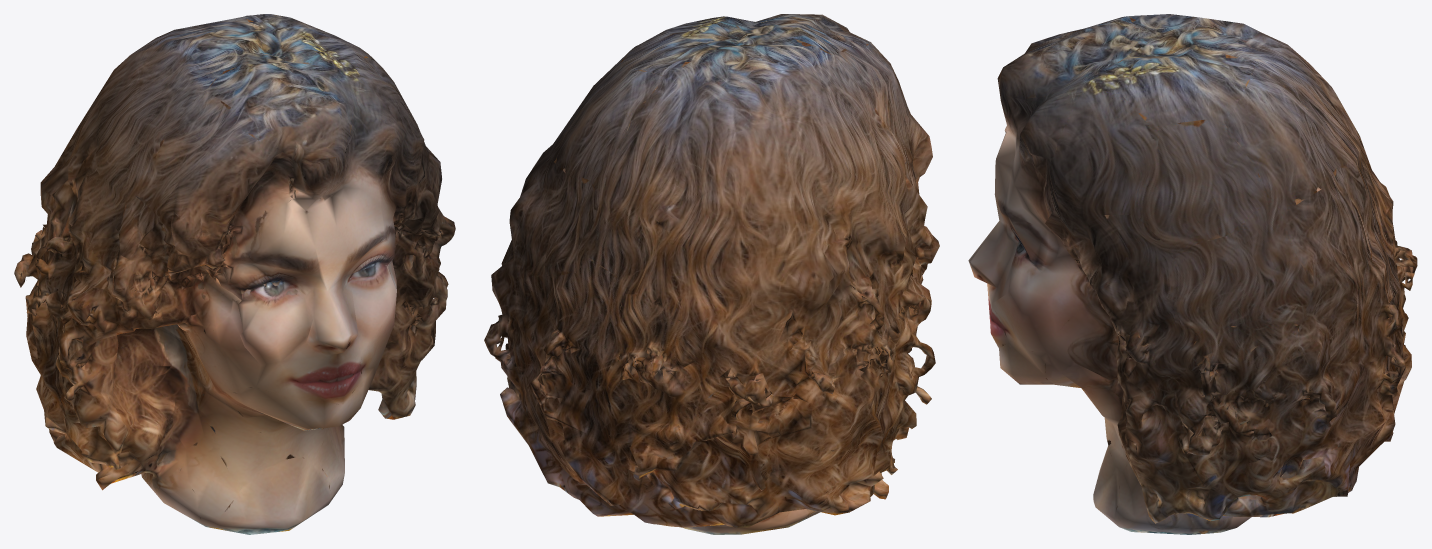
File: curly_hair_hairstyle__0808121255_refine.glb
3 renders of one model, left to right at view 1: azimuth 30°, elevation 25°; view 2: azimuth 150°, elevation 25°; view 3: azimuth 270°, elevation 25°, orthographic.
Bounding box in the file's own units: 1.06 × 1.2 × 1.02.
Materials: 1 (1 with a texture image).
